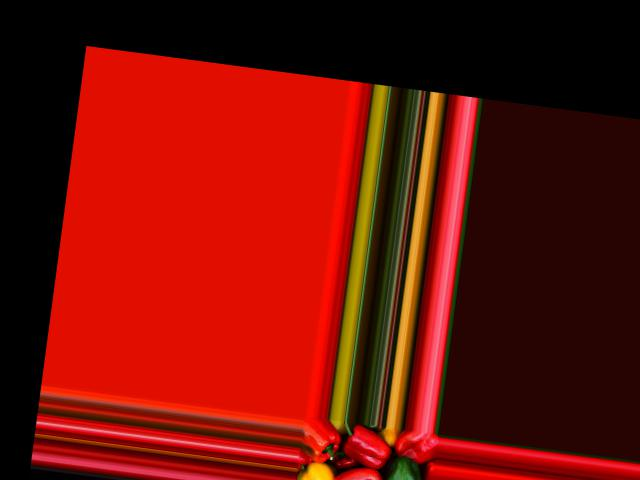bell_pepper: (293, 456, 341, 480)
